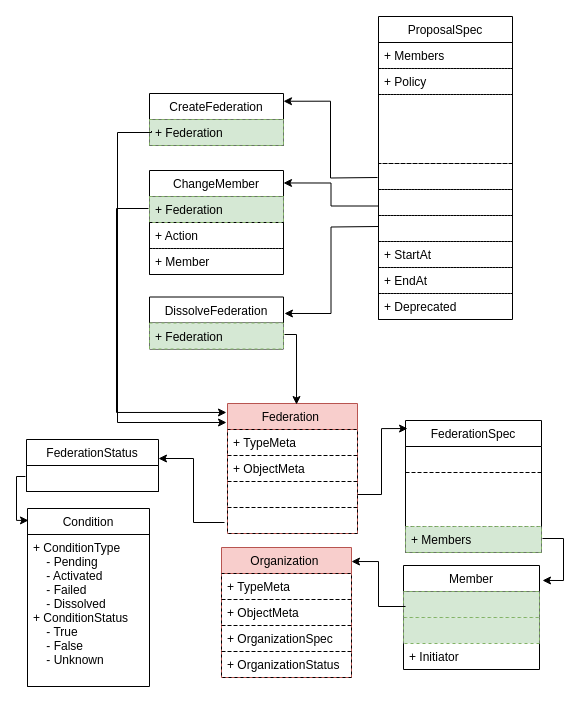
This 580x703 diagram has some shape labels left out. Each missing label, with the centre of its shape:
+ ChangeMember: the point at 445,202
+ Condition: the point at 92,478
+ CreateFederation: the point at 445,176
+ Description: the point at 473,459
+ DissolveFederation: the point at 445,228
+ FederationSpec: the point at 292,494
+ FederationStatus: the point at 292,520
+ Name: the point at 471,604
+ Namespace: the point at 471,630
+ Policy - OneVote - Majority: the point at 473,499
+ Type - CreateFederation - ChangeMember - DissolveFederation: the point at 445,129
